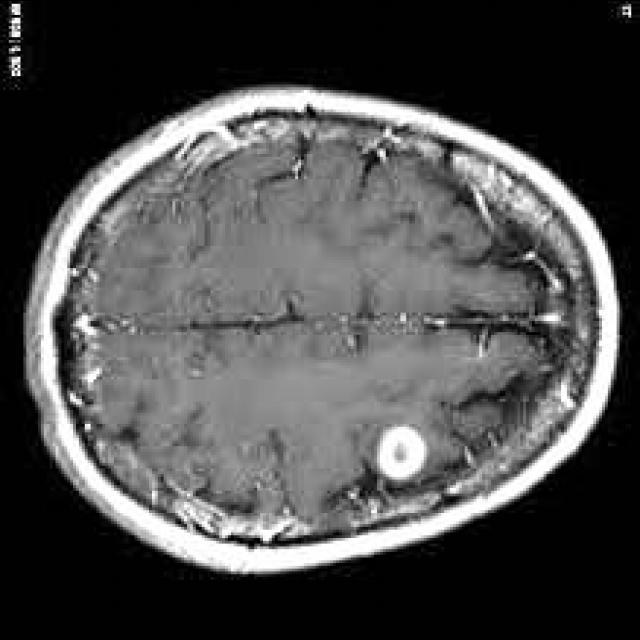tumor: (374, 423, 435, 481)
